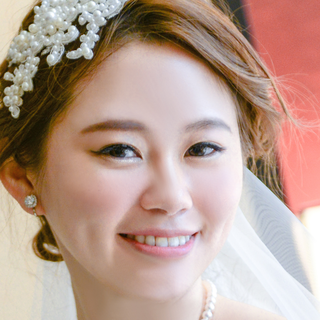eye: (90, 136, 146, 168), (179, 133, 229, 166)
